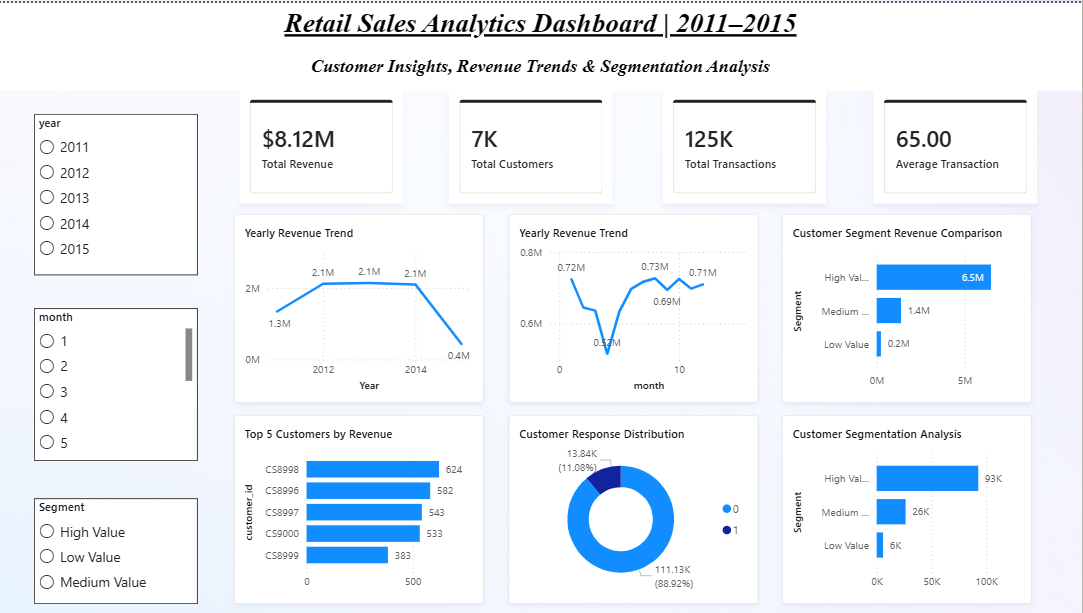

Layout of this report page (visuals, bound fields, positions):
{"tool":"powerbi","page":{"name":"Page 1","canvas":[1280,720],"ordinal":0},"visuals":[{"type":"cardVisual","fields":{"Data":["New_DAX.Total Revenue"]},"box":[281.9,79.3,193.2,135.9],"z":0},{"type":"cardVisual","fields":{"Data":["New_DAX.Average Transaction"]},"box":[1030.3,79.3,193.2,135.9],"z":1},{"type":"cardVisual","fields":{"Data":["New_DAX.Total Transactions"]},"box":[781.4,79.3,193.2,135.9],"z":2},{"type":"cardVisual","fields":{"Data":["New_DAX.Total Customers"]},"box":[529.2,79.3,193.2,135.9],"z":3},{"type":"lineChart","title":"Yearly Revenue Trend","fields":{"Category":["cleaned_retail_data.month_year.Variation.Date Hierarchy.Year"],"Y":["Sum(cleaned_retail_data.tran_amount)"]},"box":[278.4,226,443.8,222.7],"z":4},{"type":"clusteredBarChart","title":"Top 5 Customers by Revenue","fields":{"Category":["cleaned_retail_data.customer_id"],"Y":["Sum(cleaned_retail_data.tran_amount)"]},"box":[278.4,458.5,294.8,250.6],"z":5},{"type":"donutChart","title":"Customer Response Distribution","fields":{"Category":["cleaned_retail_data.response"],"Y":["CountNonNull(cleaned_retail_data.customer_id)"]},"box":[602.7,458.5,294.8,250.6],"z":6},{"type":"barChart","title":"Customer Segmentation Analysis","fields":{"Y":["CountNonNull(cleaned_retail_data.customer_id)"],"Category":["cleaned_retail_data.Segment"]},"box":[925.3,458.5,294.8,250.6],"z":7},{"type":"listSlicer","fields":{"Values":["cleaned_retail_data.year"]},"box":[42.6,78.6,193.2,190],"z":8},{"type":"listSlicer","fields":{"Values":["cleaned_retail_data.Segment"]},"box":[42.6,551.9,193.2,124.5],"z":9},{"type":"listSlicer","fields":{"Values":["cleaned_retail_data.month"]},"box":[42.6,319.3,193.2,180.1],"z":10},{"type":"textbox","box":[0,0,1280.6,57.3],"z":11},{"type":"lineChart","title":"Revenue by Segment Trend","fields":{"Y":["Sum(cleaned_retail_data.tran_amount)"],"Category":["cleaned_retail_data.Segment"]},"box":[776.2,226,443.8,222.7],"z":12}]}

Visuals, with their boxes in screenshot pixels (x1, y1, x2, y2), scaled from the page's 1280x720 canvas onto the 1083x613 screenshot:
cardVisual - New_DAX.Total Revenue: pyautogui.locateOnScreen(239, 68, 402, 183)
cardVisual - New_DAX.Average Transaction: pyautogui.locateOnScreen(872, 68, 1035, 183)
cardVisual - New_DAX.Total Transactions: pyautogui.locateOnScreen(661, 68, 825, 183)
cardVisual - New_DAX.Total Customers: pyautogui.locateOnScreen(448, 68, 611, 183)
"Yearly Revenue Trend" lineChart: pyautogui.locateOnScreen(236, 192, 611, 382)
"Top 5 Customers by Revenue" clusteredBarChart: pyautogui.locateOnScreen(236, 390, 485, 604)
"Customer Response Distribution" donutChart: pyautogui.locateOnScreen(510, 390, 759, 604)
"Customer Segmentation Analysis" barChart: pyautogui.locateOnScreen(783, 390, 1032, 604)
listSlicer - cleaned_retail_data.year: pyautogui.locateOnScreen(36, 67, 200, 229)
listSlicer - cleaned_retail_data.Segment: pyautogui.locateOnScreen(36, 470, 200, 576)
listSlicer - cleaned_retail_data.month: pyautogui.locateOnScreen(36, 272, 200, 425)
textbox: pyautogui.locateOnScreen(0, 0, 1082, 49)
"Revenue by Segment Trend" lineChart: pyautogui.locateOnScreen(657, 192, 1032, 382)
